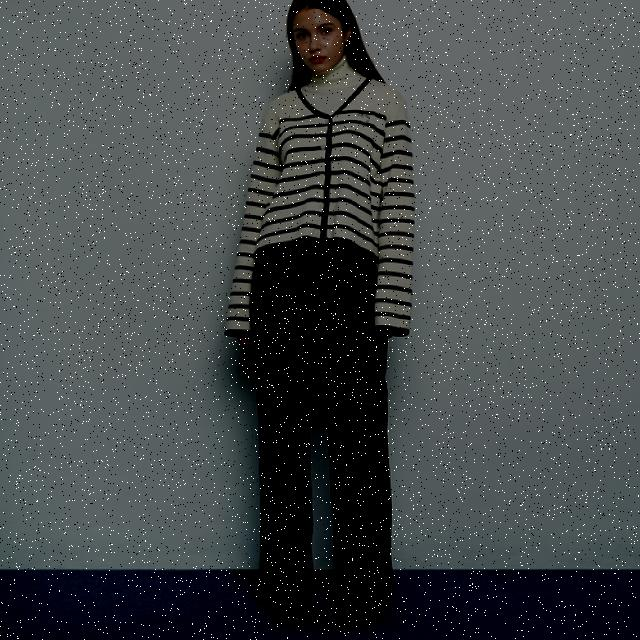Blouse_deep: (242, 234, 411, 601)
